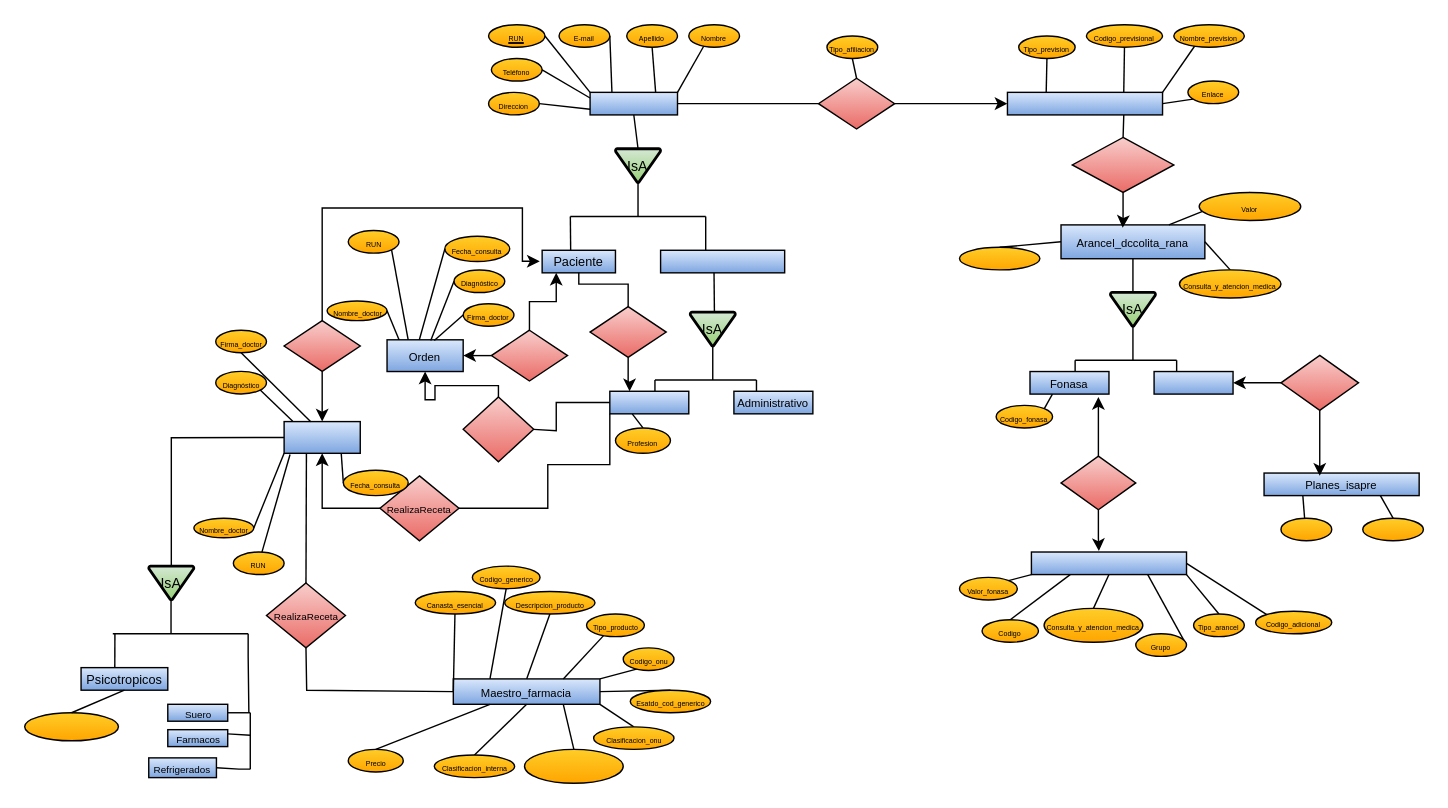
Some shapes in this 1448 by 808 pixel diagram are drawn without their labels. Each missing label, with the centre of its shape:
"Afiliacion" goes at [856,103].
"Arancel_fonasa" goes at [1108,563].
"Bonificacion" goes at [1392,529].
"Codigo_autorizacion_unico" goes at [70,726].
"Codigo_interno" goes at [999,258].
"Define_cobertura" goes at [1122,164].
"DefinePlan" goes at [1319,382].
"Grupo_isapre" goes at [1306,529].
"Institucion_previsional_salud" goes at [1084,103].
"Isapre" goes at [1193,382].
"Nombre_producto_generico" goes at [573,765].
"Persona" goes at [633,103].
"PideConsulta" goes at [627,331].
"RealizaOrden" goes at [498,429].
"Receta" goes at [321,436].
"RecibeOrden" goes at [529,355].
"RecibeReceta" goes at [321,345].
"Referencia" goes at [1098,482].
"Staff_medico" goes at [648,402].
"Trabajador_centro_medico" goes at [722,261].
